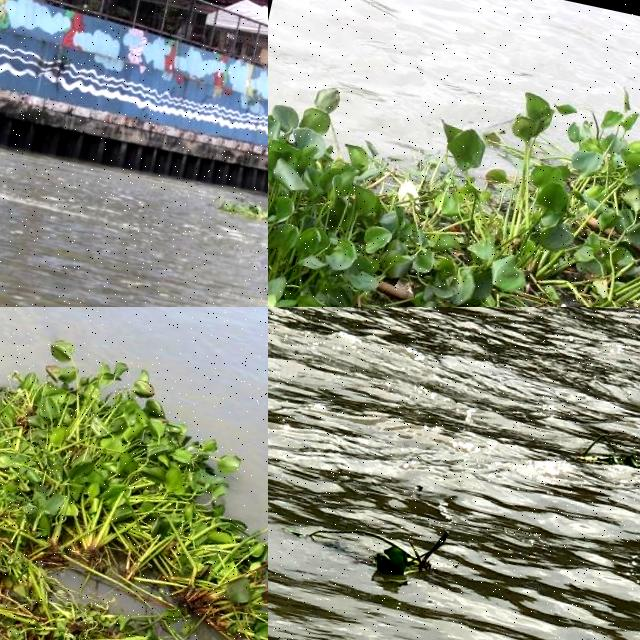water-hyacinth: (267, 87, 640, 308), (1, 345, 265, 640), (359, 514, 465, 597), (564, 418, 640, 484), (216, 181, 269, 238)
